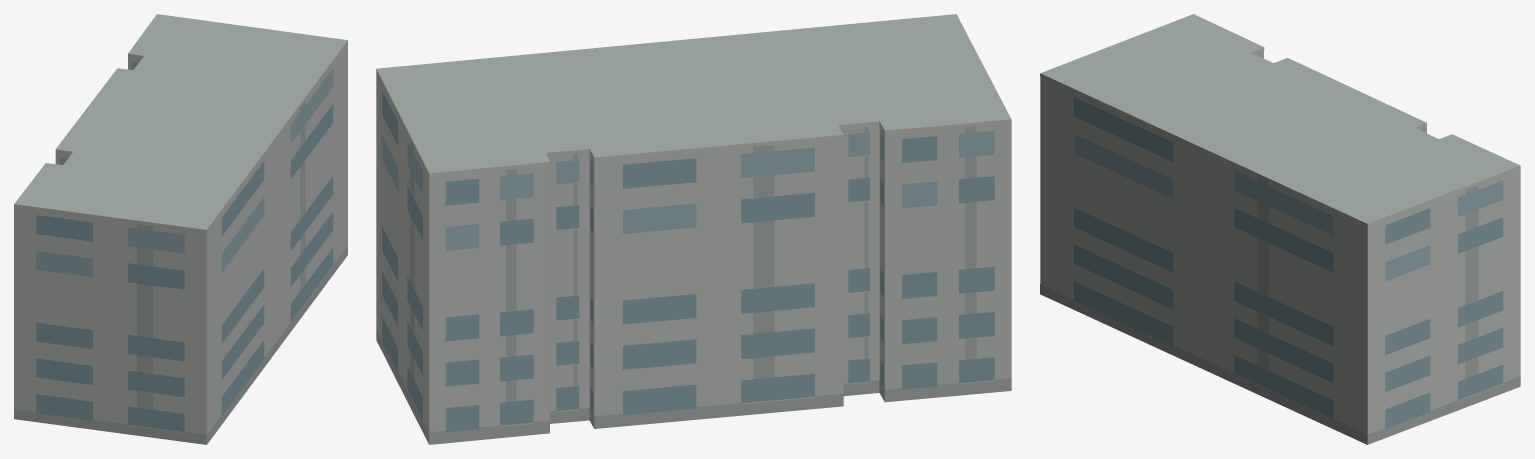
File: survey-upis-32864635.glb
3 renders of one model, left to right at view 1: azimuth 30°, elevation 25°; view 2: azimuth 150°, elevation 25°; view 3: azimuth 270°, elevation 25°, orthographic. The views are drawn at different scales.
Visible parts, largest first — view 1: survey-upis-32864635.tmp; view 2: survey-upis-32864635.tmp; view 3: survey-upis-32864635.tmp.
Boxes of the visible parts, bbox=[...] form: survey-upis-32864635.tmp: bbox=[14, 14, 347, 444]; survey-upis-32864635.tmp: bbox=[376, 14, 1011, 444]; survey-upis-32864635.tmp: bbox=[1040, 14, 1520, 444].
Bounding box in the file's own units: 34.22 × 16.8 × 33.11.
